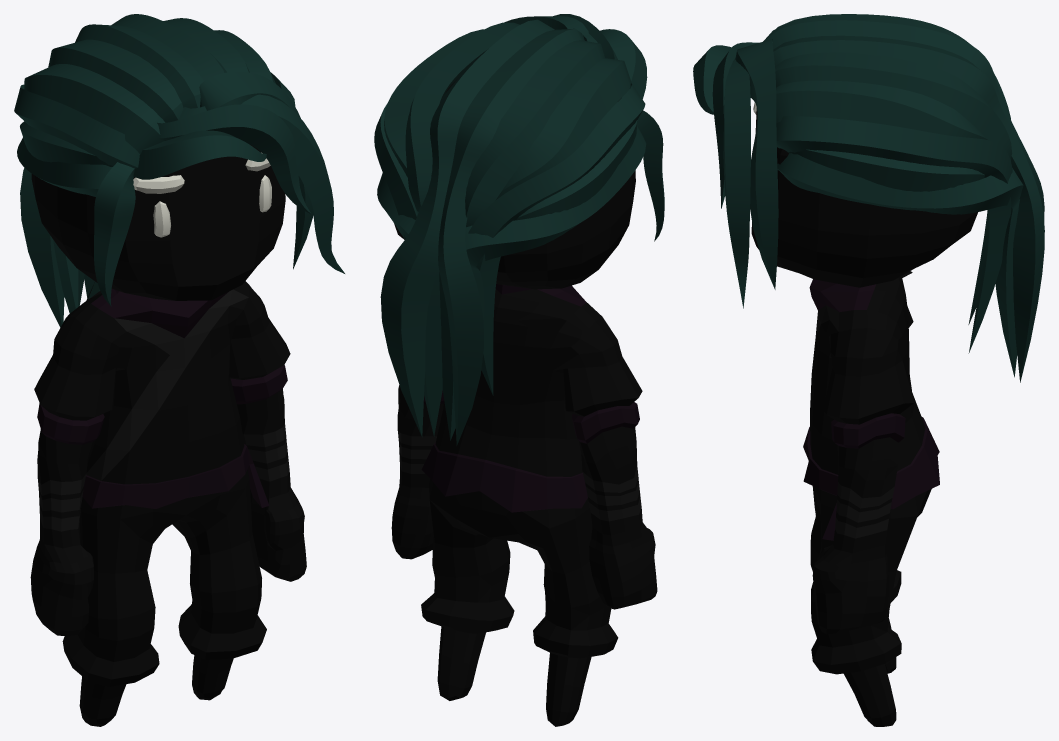
The model's file is Ninja_Female.obj.
3 renders of one model, left to right at view 1: azimuth 30°, elevation 25°; view 2: azimuth 150°, elevation 25°; view 3: azimuth 270°, elevation 25°, orthographic. The views are drawn at different scales.
Visible parts, largest first — view 1: Body_Cube.004; view 2: Body_Cube.004; view 3: Body_Cube.004.
Part boxes in pixels (x1,y1,x2,y2): Body_Cube.004: [14, 14, 344, 726]; Body_Cube.004: [374, 14, 664, 726]; Body_Cube.004: [693, 14, 1044, 726].
Size of the model in its own units: 1.28 by 3.16 by 1.51.
